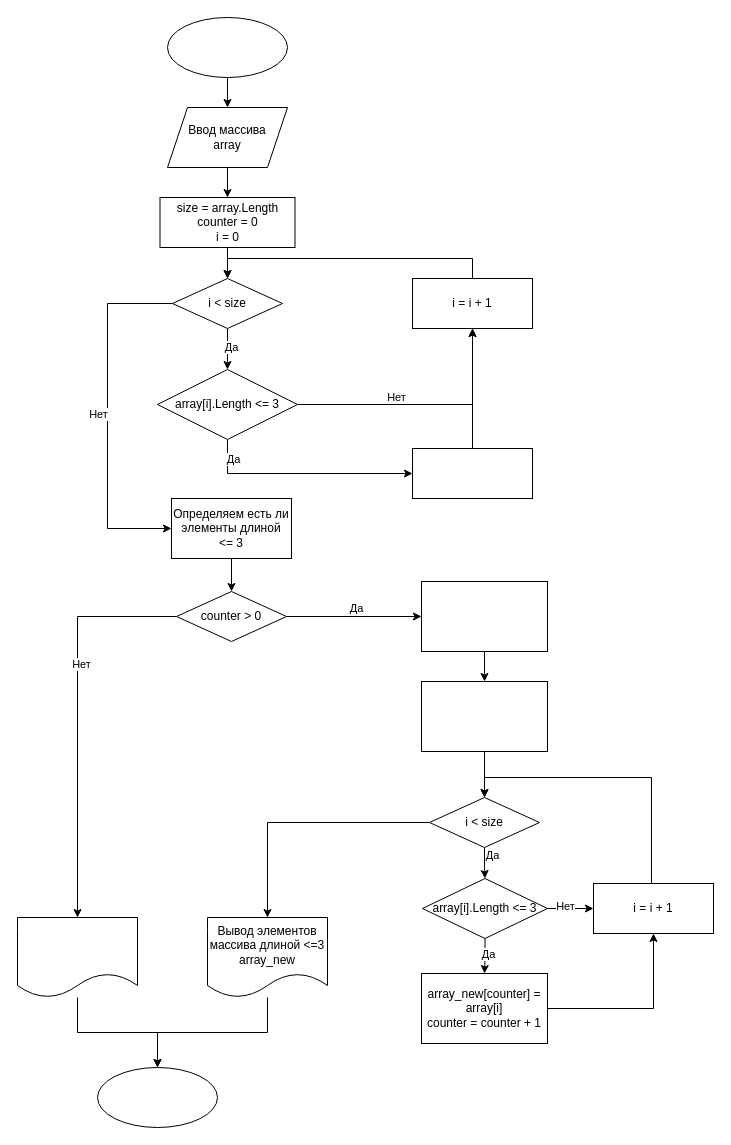
Some shapes in this 731 by 1145 pixel diagram are drawn without their labels. Here are the shapes that lost their labels. From the top down, the box of each, then its label:
(166, 16, 288, 78): Начало
(412, 448, 532, 498): counter = counter + 1
(420, 580, 548, 652): Создаем и заполняем массив array_new длиной = counter
(420, 680, 548, 752): для заполнения массива array_new обнуляем counter = 0 i = 0
(16, 916, 138, 998): Вывод пустых скобок []
(96, 1066, 218, 1128): Конец
